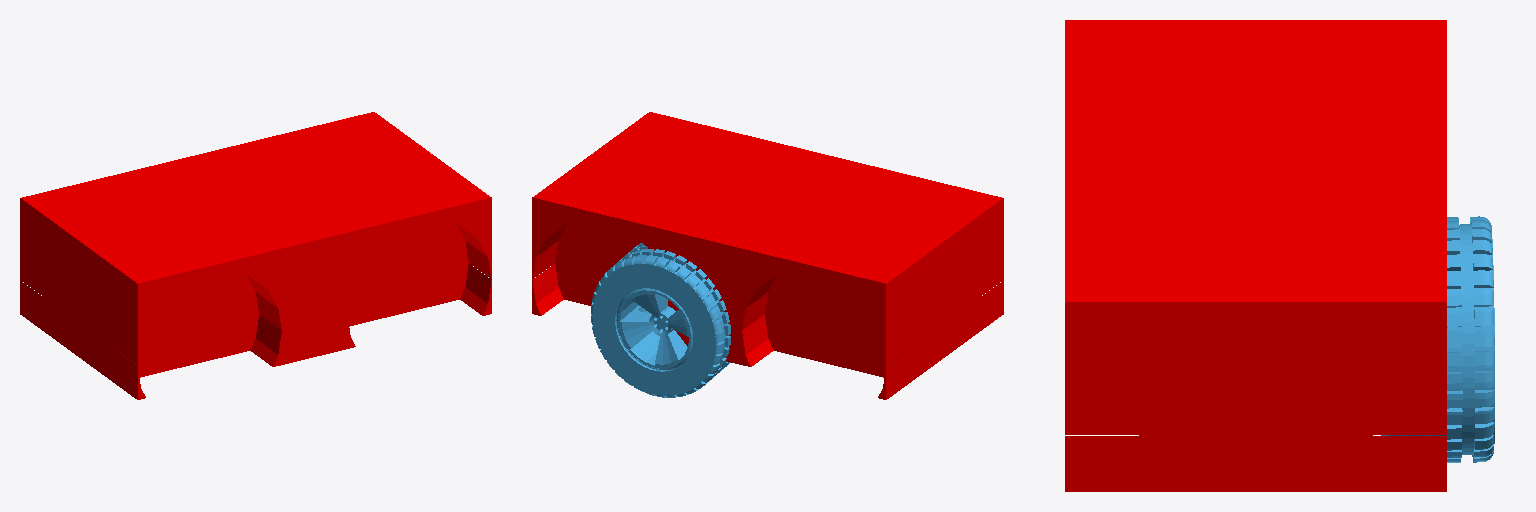
The robot description file, URDF, robot "abb_irb4600_60_205":
<?xml version="1.0" ?>
<robot xmlns:xacro="http://ros.org/wiki/xacro" name="abb_irb4600_60_205">
  <link name="base_link">
    <collision name="collision">
      <geometry>
        <mesh filename="package://abb_irb4600_support/meshes/base/collision/base.stl"/>
      </geometry>
    </collision>
    <visual name="visual">
      <geometry>
        <mesh filename="package://abb_irb4600_support/meshes/base/visual/base.stl"/>
        <origin xyz="0 0 0" rpy="0 0 0"/>
      </geometry>
      <material name="red">
        <color rgba="1 0 0 1"/>
      </material>
    </visual>
  </link>
  <link name="wheel_l1">
    <collision name="collision">
      <geometry>
        <mesh filename="package://abb_irb4600_support/meshes/base/collision/wheel_l1.stl"/>
      </geometry>
    </collision>
    <visual name="visual">
      <geometry>
        <mesh filename="package://abb_irb4600_support/meshes/base/visual/wheel_l1.stl"/>
        <origin xyz="-0.8 -0.8 0" rpy="0 0 0"/>
      </geometry>
      <!-- <material name="yellow"/> -->
      <origin rpy="0 0 0" xyz="-0.5 0 0"/>
    </visual>
  </link>

  <joint type="revolute" name="joint_1">
    <origin xyz="0 0 0" rpy="0 0 0"/>
    <axis xyz="0 0 1"/>
    <parent link="base_link"/>
    <child link="wheel_l1"/>
    <!-- <limit effort="0" lower="-3.141" upper="3.141" velocity="3.054"/> -->
  </joint>
  <link name="base"/>
  <joint name="base_link-base" type="fixed">
    <origin xyz="0 0 0" rpy="0 0 0"/>
    <parent link="base"/>
    <child link="base_link"/>
  </joint> 
</robot>

--- What the picture shows (computed from the rendered views, not written in the file) ---
3 views of the same robot in one strip: view 1: azimuth 30°, elevation 25°; view 2: azimuth 150°, elevation 25°; view 3: azimuth 270°, elevation 25° (orthographic).
Robot: abb_irb4600_60_205 — 3 links, 2 joints (1 revolute, 1 fixed); root link base; default pose: all joints at 0.
Links seen in each view (by area): view 1: base_link; view 2: base_link, wheel_l1; view 3: base_link, wheel_l1.
Link boxes in pixels (x1,y1,x2,y2): base_link: (20,112,491,399); base_link: (532,112,1003,399); wheel_l1: (591,243,730,397); base_link: (1065,20,1446,491); wheel_l1: (1381,216,1494,462).
Bounding box of the posed robot: 2.7 × 1.75 × 1.15 m (x, y, z).
Meshes: 2 distinct files referenced, 2 mesh visuals loaded (2 binary STL).